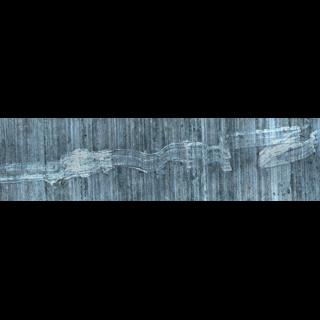d: (0, 123, 317, 189)
